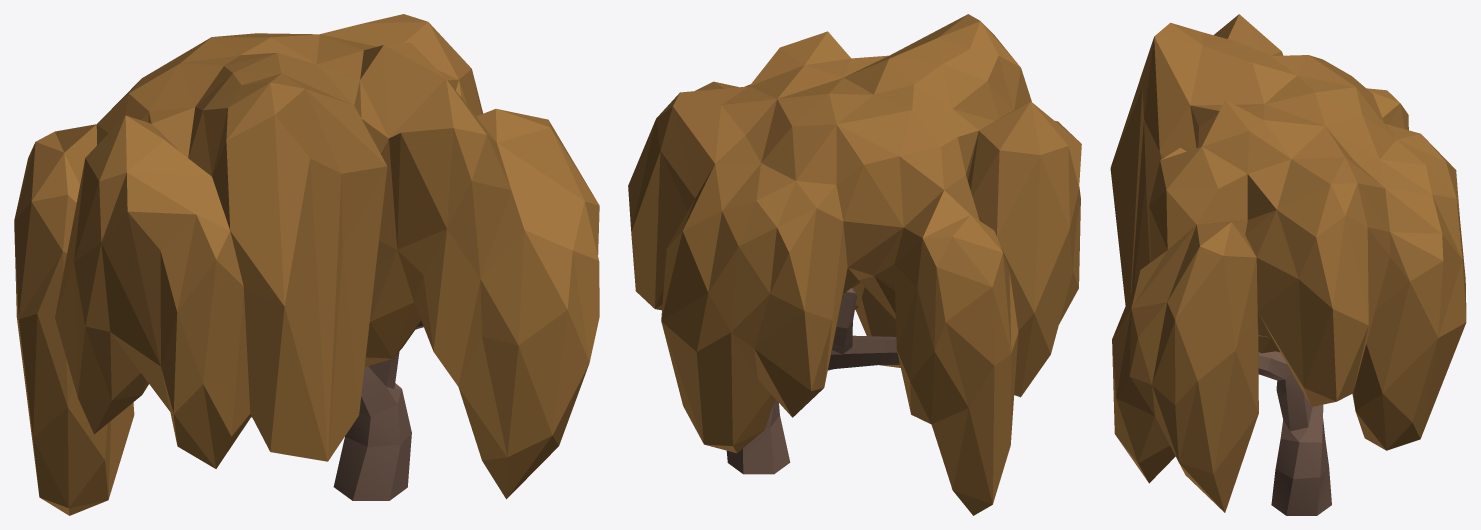
Rendered from SM_Willow_01.fbx.
3 views of the same model, side by side, from view 1: azimuth 30°, elevation 25°; view 2: azimuth 150°, elevation 25°; view 3: azimuth 270°, elevation 25° (orthographic). The views are drawn at different scales.
Parts seen in each view (by area): view 1: SM_Willow_01; view 2: SM_Willow_01; view 3: SM_Willow_01.
Boxes of the visible parts, left/top/right/bottom form: SM_Willow_01: left=14, top=14, right=599, bottom=515; SM_Willow_01: left=628, top=14, right=1081, bottom=515; SM_Willow_01: left=1110, top=14, right=1466, bottom=515.
Size of the model in its own units: 1791 by 1795 by 1410.
